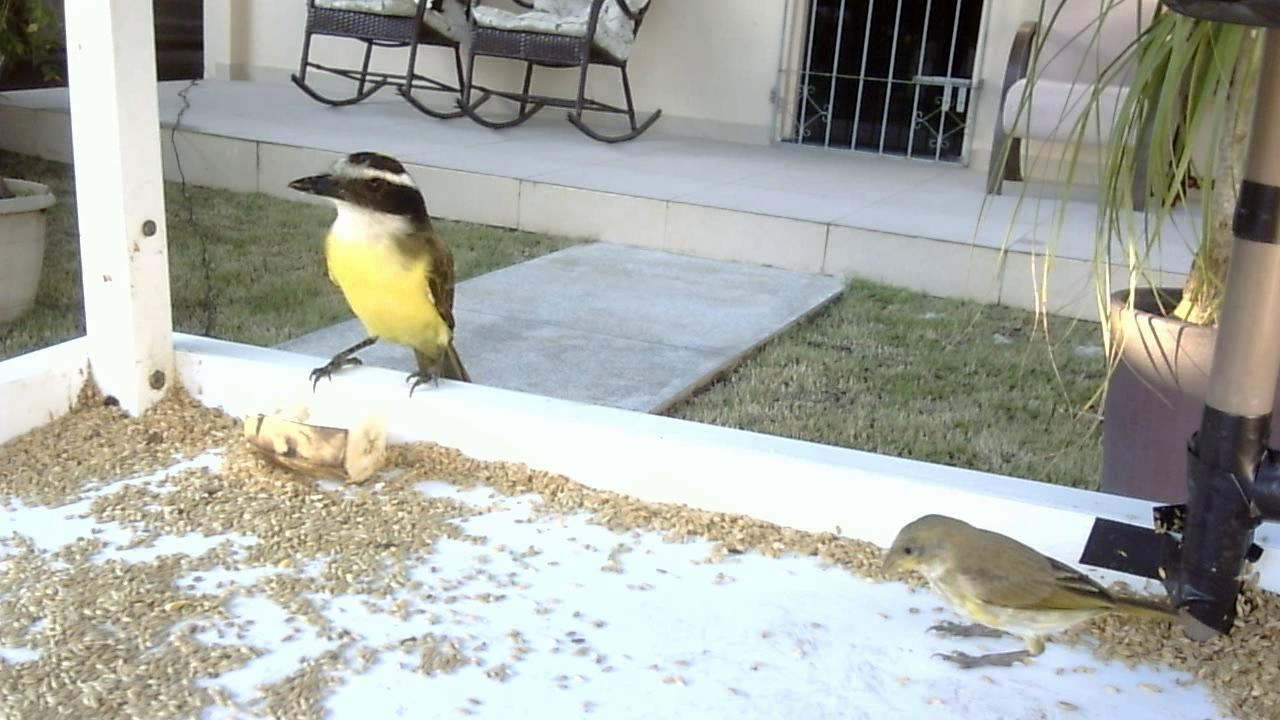bem_te_vi: (277, 144, 479, 404)
canario_do_amazonas: (878, 508, 1174, 672)
